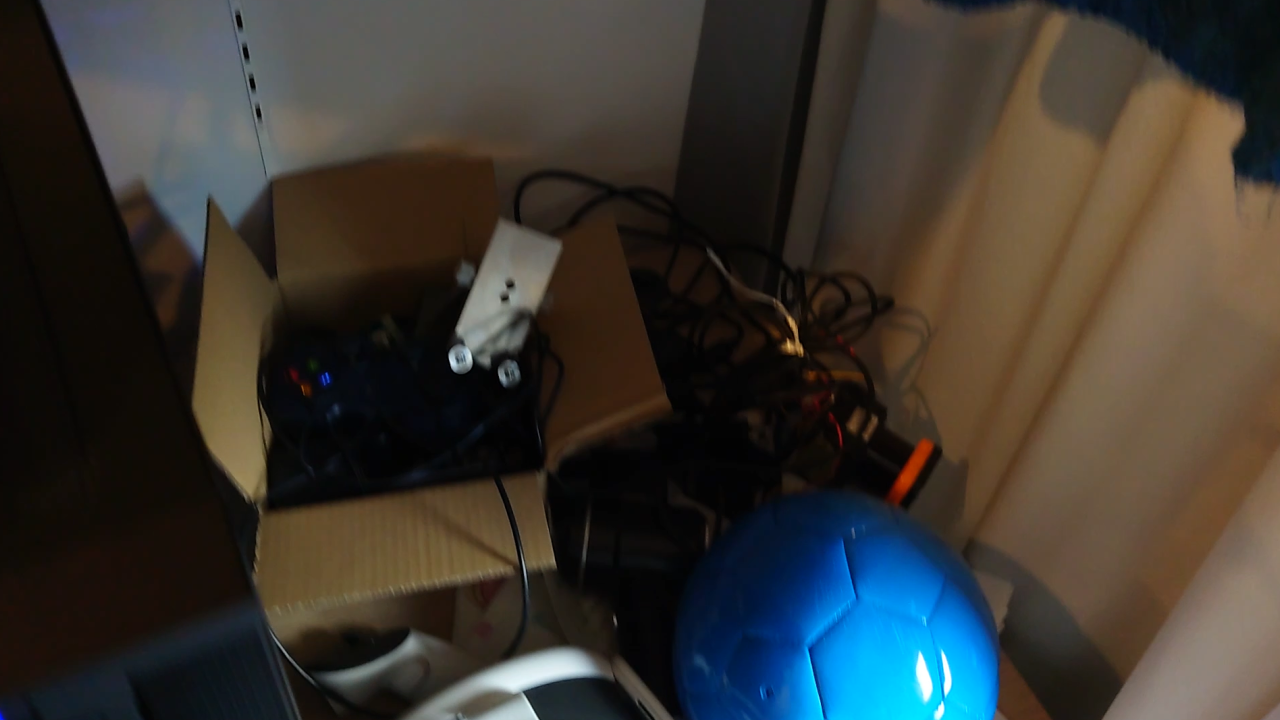BlueBall: (678, 505, 1000, 720)
